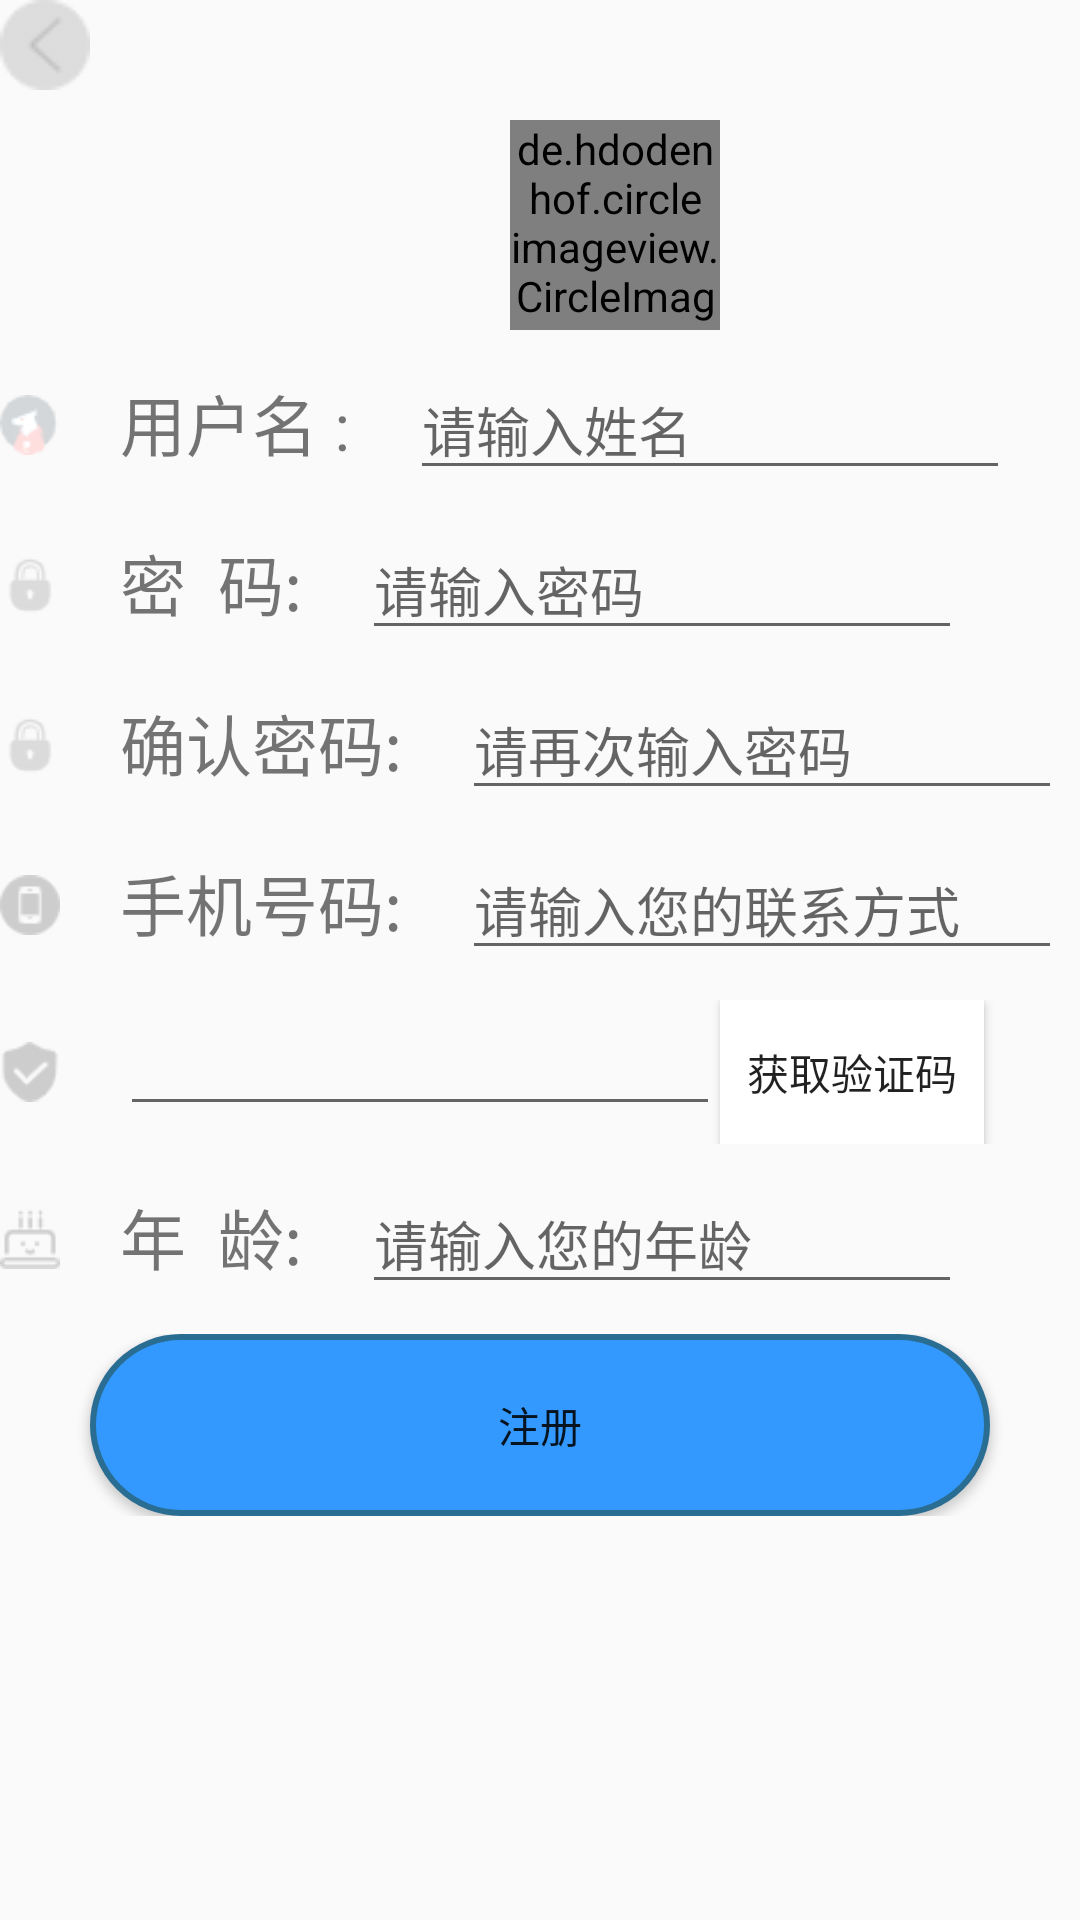

Where to tap for icons on this 1080 × 1920 app screen, as [x,y]:
password: [30,585], [30,745]
phone num: [30,905]
user name: [27,425]
